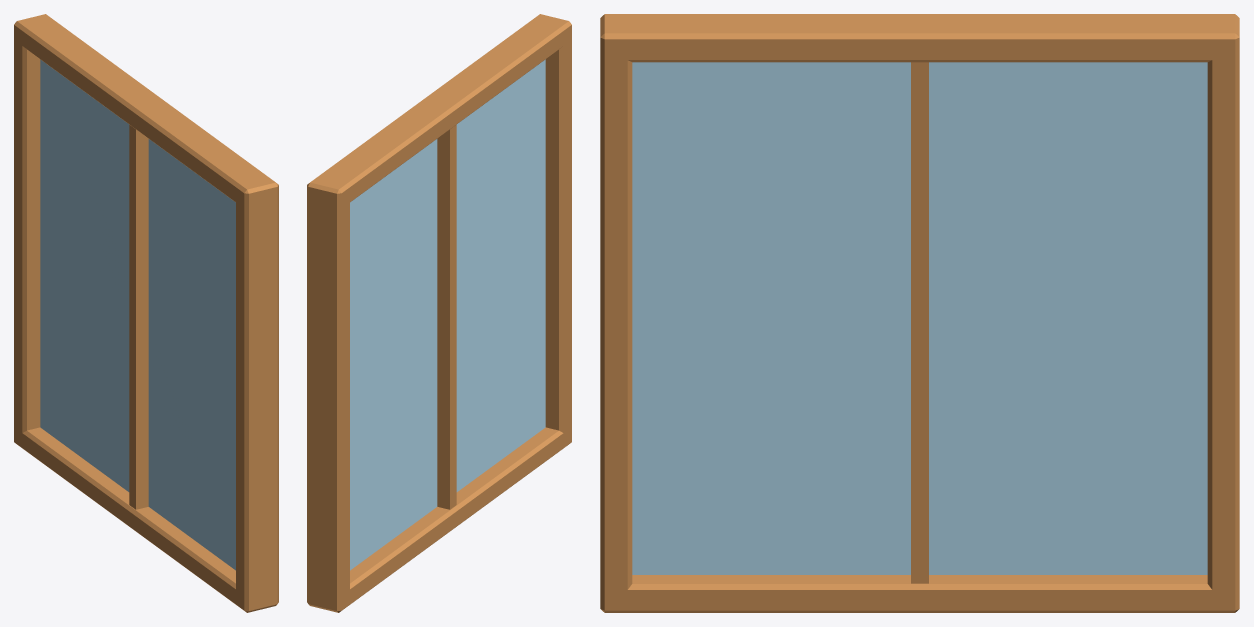
The picture shows the model from 3 angles, left to right: view 1: azimuth 30°, elevation 25°; view 2: azimuth 150°, elevation 25°; view 3: azimuth 270°, elevation 25°; orthographic projection. The views are drawn at different scales.
Visible parts, largest first — view 1: window_l_glass, window_l; view 2: window_l_glass, window_l; view 3: window_l_glass, window_l.
Boxes of the visible parts, left/top/right/bottom form: window_l_glass: left=40, top=59, right=235, bottom=570; window_l: left=14, top=14, right=278, bottom=612; window_l_glass: left=350, top=59, right=545, bottom=570; window_l: left=307, top=14, right=571, bottom=612; window_l_glass: left=632, top=62, right=1207, bottom=574; window_l: left=600, top=14, right=1239, bottom=612.
Size of the model in its own units: 0.12 by 1.4 by 1.4.
